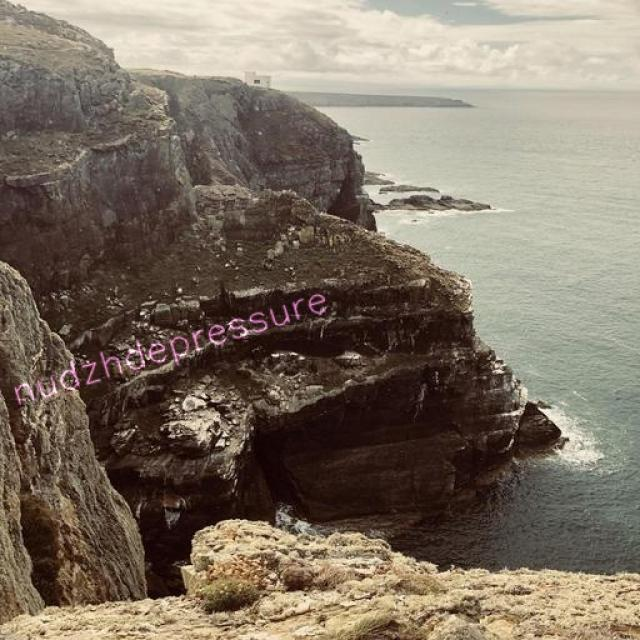watermark: (6, 279, 330, 412)
